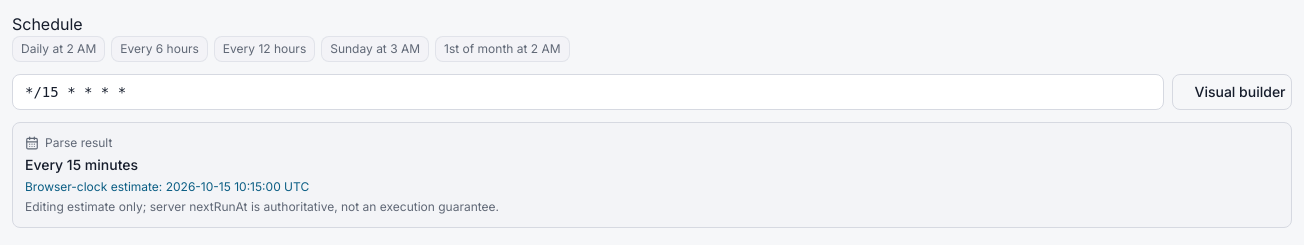
Test: CronGenerator preview › preserves preset editing and provides a correct monthly preview
Click the button "1st of month at 2 AM" at {"x": 502, "y": 49}, box left=435, top=36, right=570, bottom=62
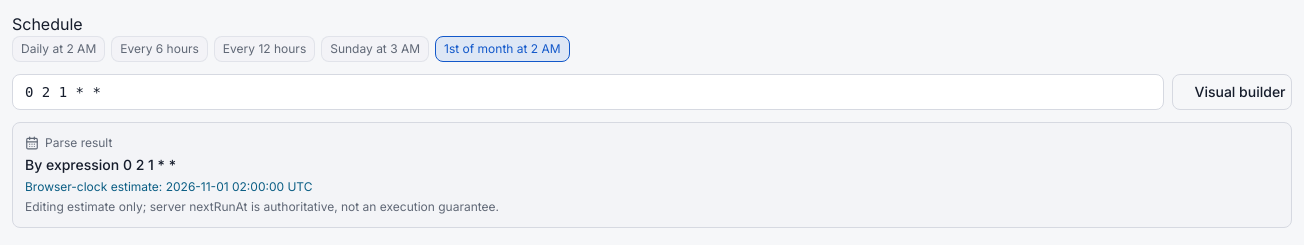
expect the field labelled "Schedule" holds "0 2 1 * *": met, box left=12, top=74, right=1164, bottom=110
